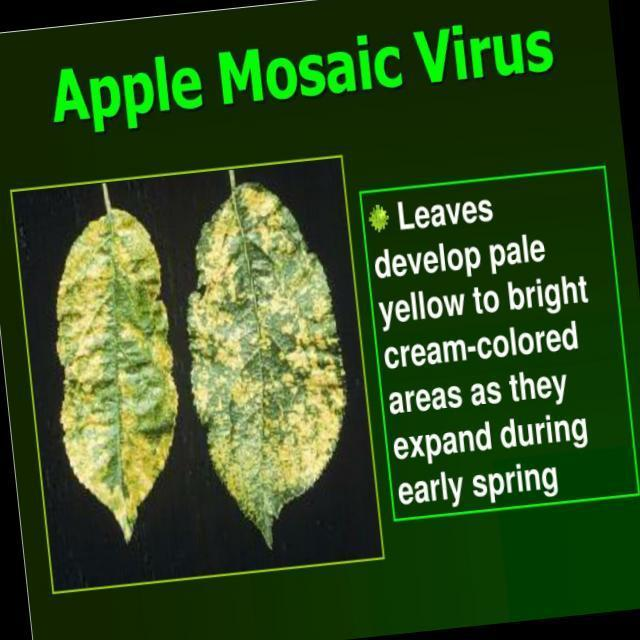Mosaic Virus: (181, 183, 367, 534), (50, 208, 190, 542)
